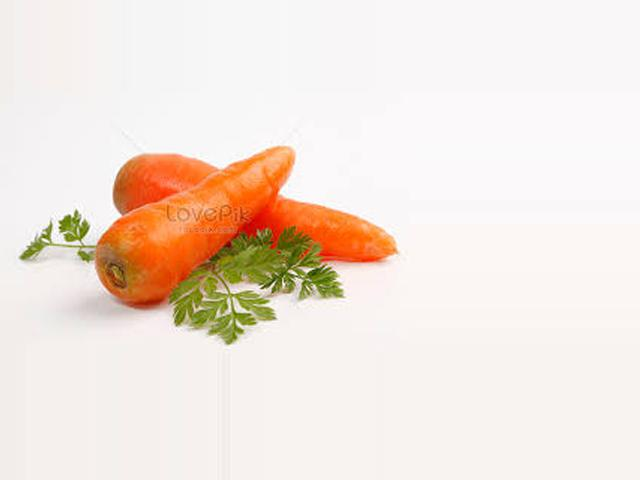carrot: (107, 150, 398, 262)
